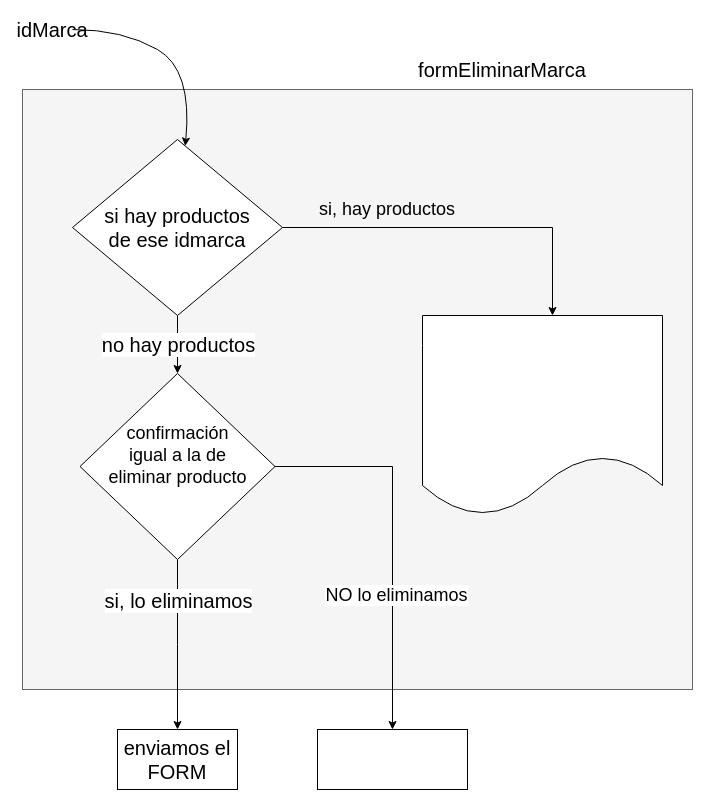
Some shapes in this 710 by 807 pixel diagram are drawn without their labels. Each missing label, with the centre of its shape:
leyenda: NO se puede eliminar: (542,415)
volver a admin: (392,759)
